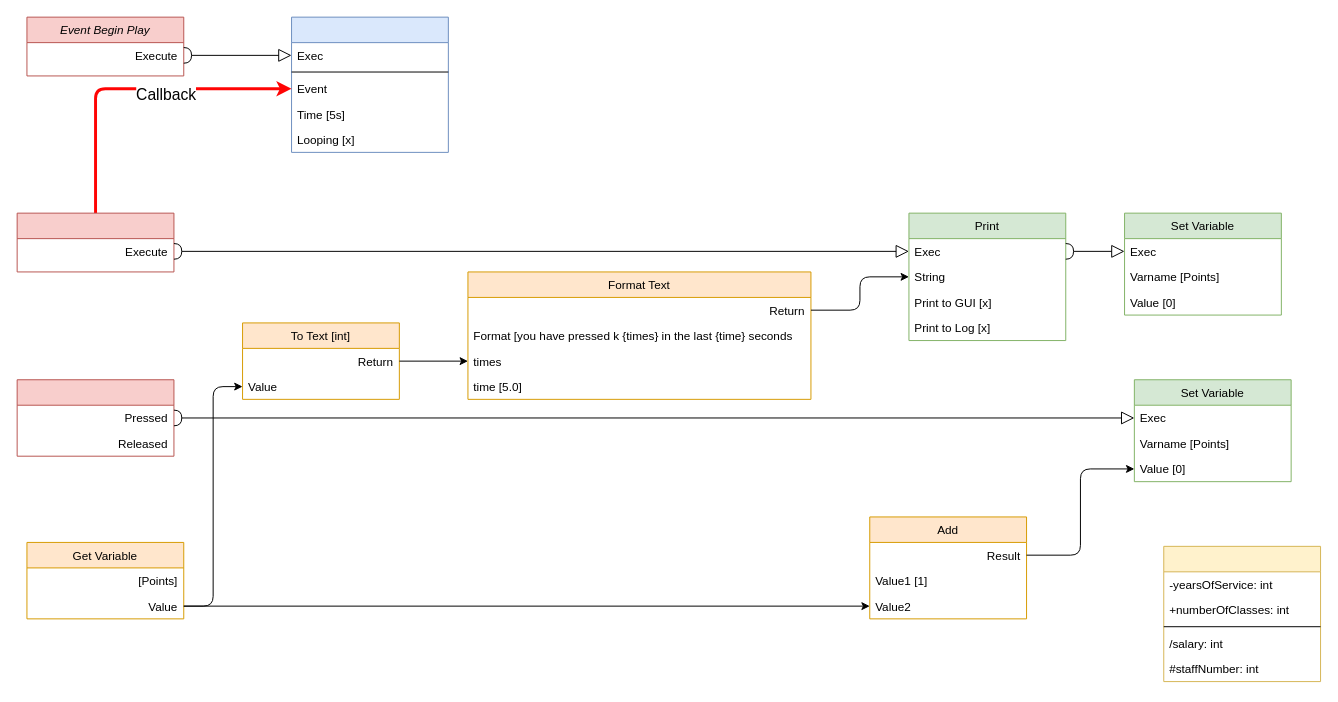
The diagram is 1338 pixels wide and 702 high, and some of its shapes have lost their labels. Each missing label, with the box of its shape:
Event Custom: (16, 212, 174, 272)
Event Key F: (16, 379, 174, 456)
Professor: (1163, 545, 1321, 682)
Set Timer by Event: (291, 16, 448, 152)
